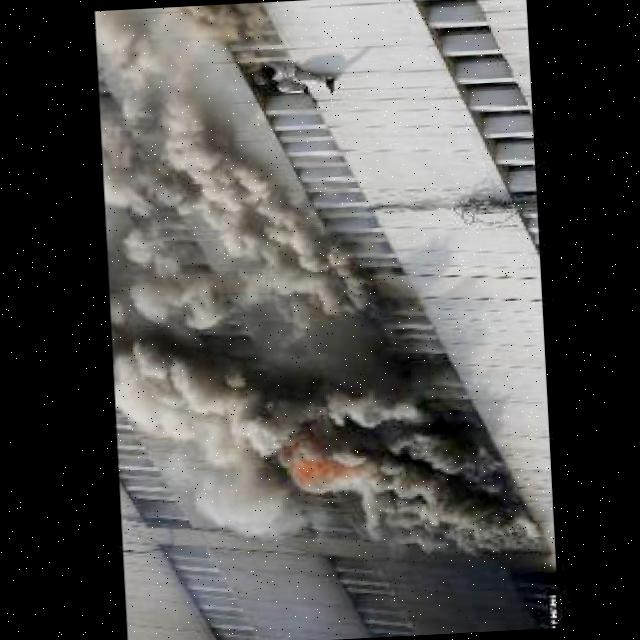fire: (273, 442, 371, 502)
